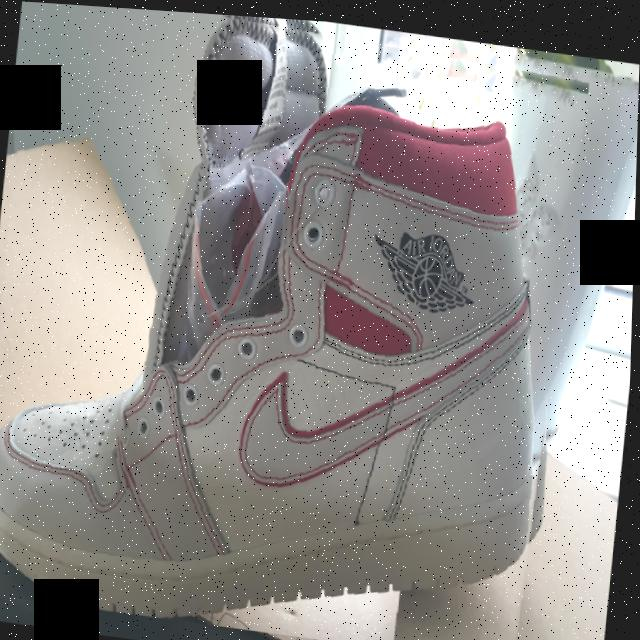shoe: (0, 0, 592, 640)
